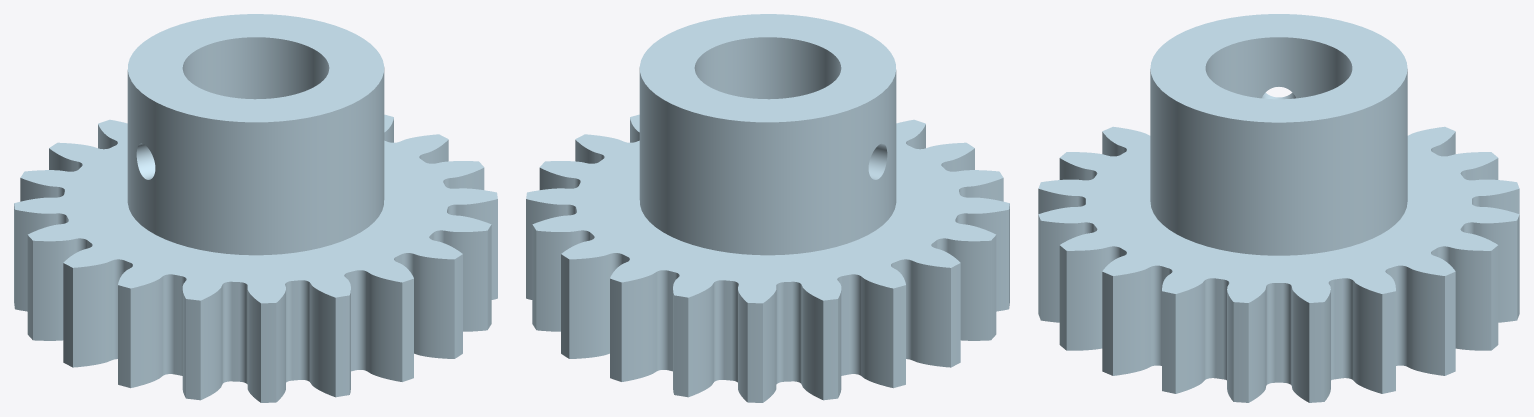
The model's file is TriangleGearSmall.gltf.
The picture shows the model from 3 angles, left to right: view 1: azimuth 30°, elevation 25°; view 2: azimuth 150°, elevation 25°; view 3: azimuth 270°, elevation 25°; orthographic projection.
Visible parts, largest first — view 1: Spur gear (20 teeth); view 2: Spur gear (20 teeth); view 3: Spur gear (20 teeth).
Boxes of the visible parts, x1,y1,x2,y2 form: Spur gear (20 teeth): (14, 14, 497, 402); Spur gear (20 teeth): (526, 14, 1009, 402); Spur gear (20 teeth): (1038, 14, 1519, 402).
Size of the model in its own units: 0.0655 by 0.035 by 0.0655.
